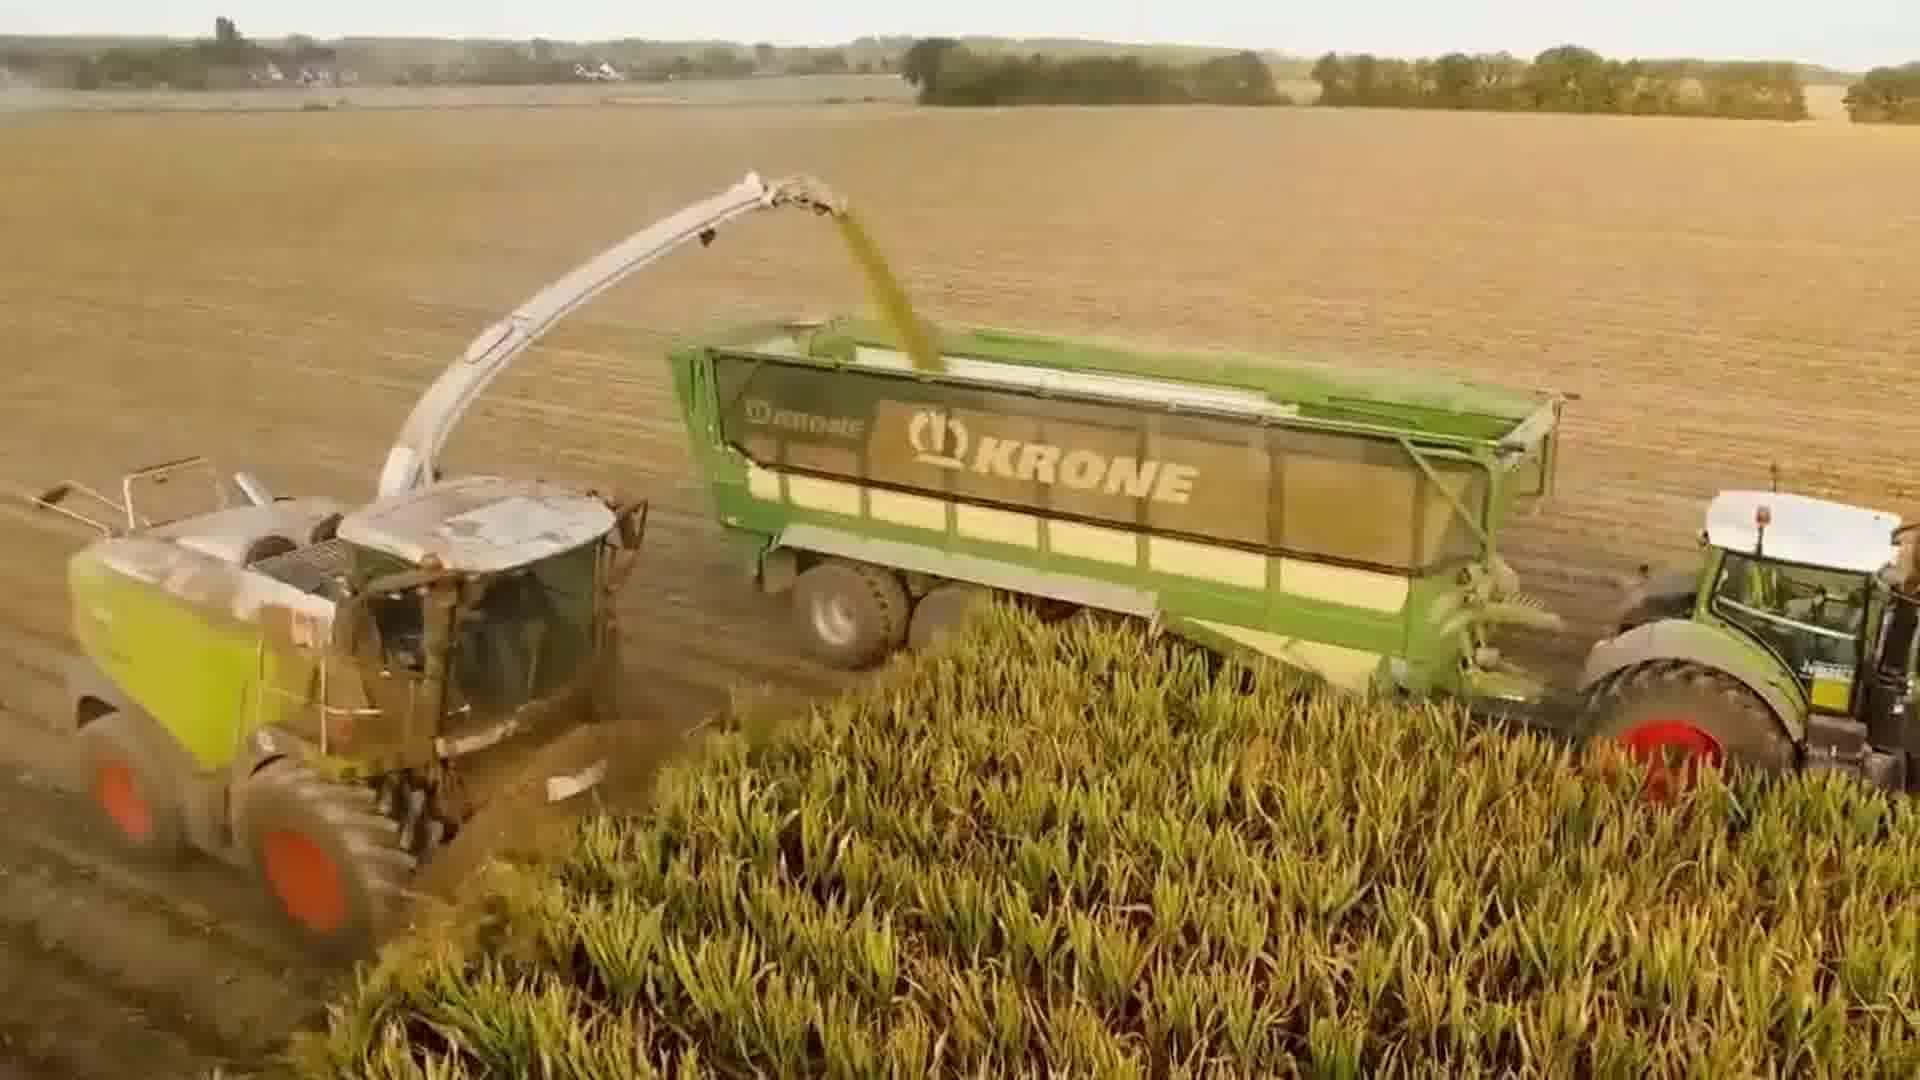combine harvester: (24, 160, 853, 959)
tractor: (1568, 469, 1920, 851)
trailer: (662, 303, 1586, 728)
